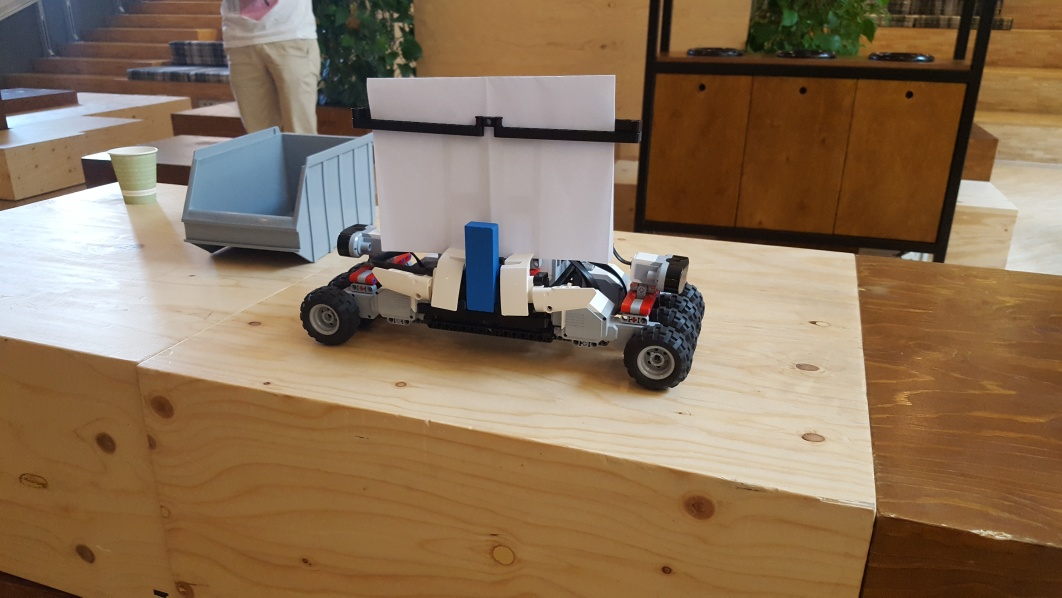car: (299, 75, 704, 390)
cup: (108, 144, 158, 204)
tray: (182, 125, 375, 261)
